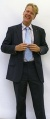male: (20, 3, 42, 29)
